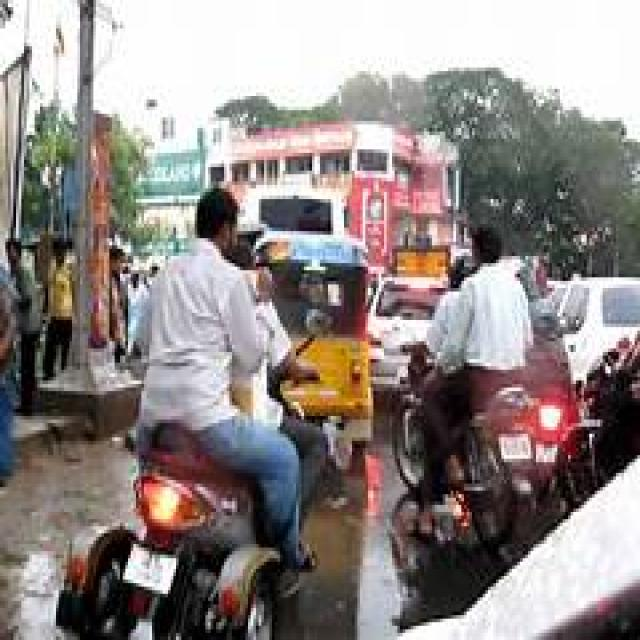Two Wheeler: (56, 423, 280, 638), (449, 385, 540, 546), (392, 345, 430, 519)
